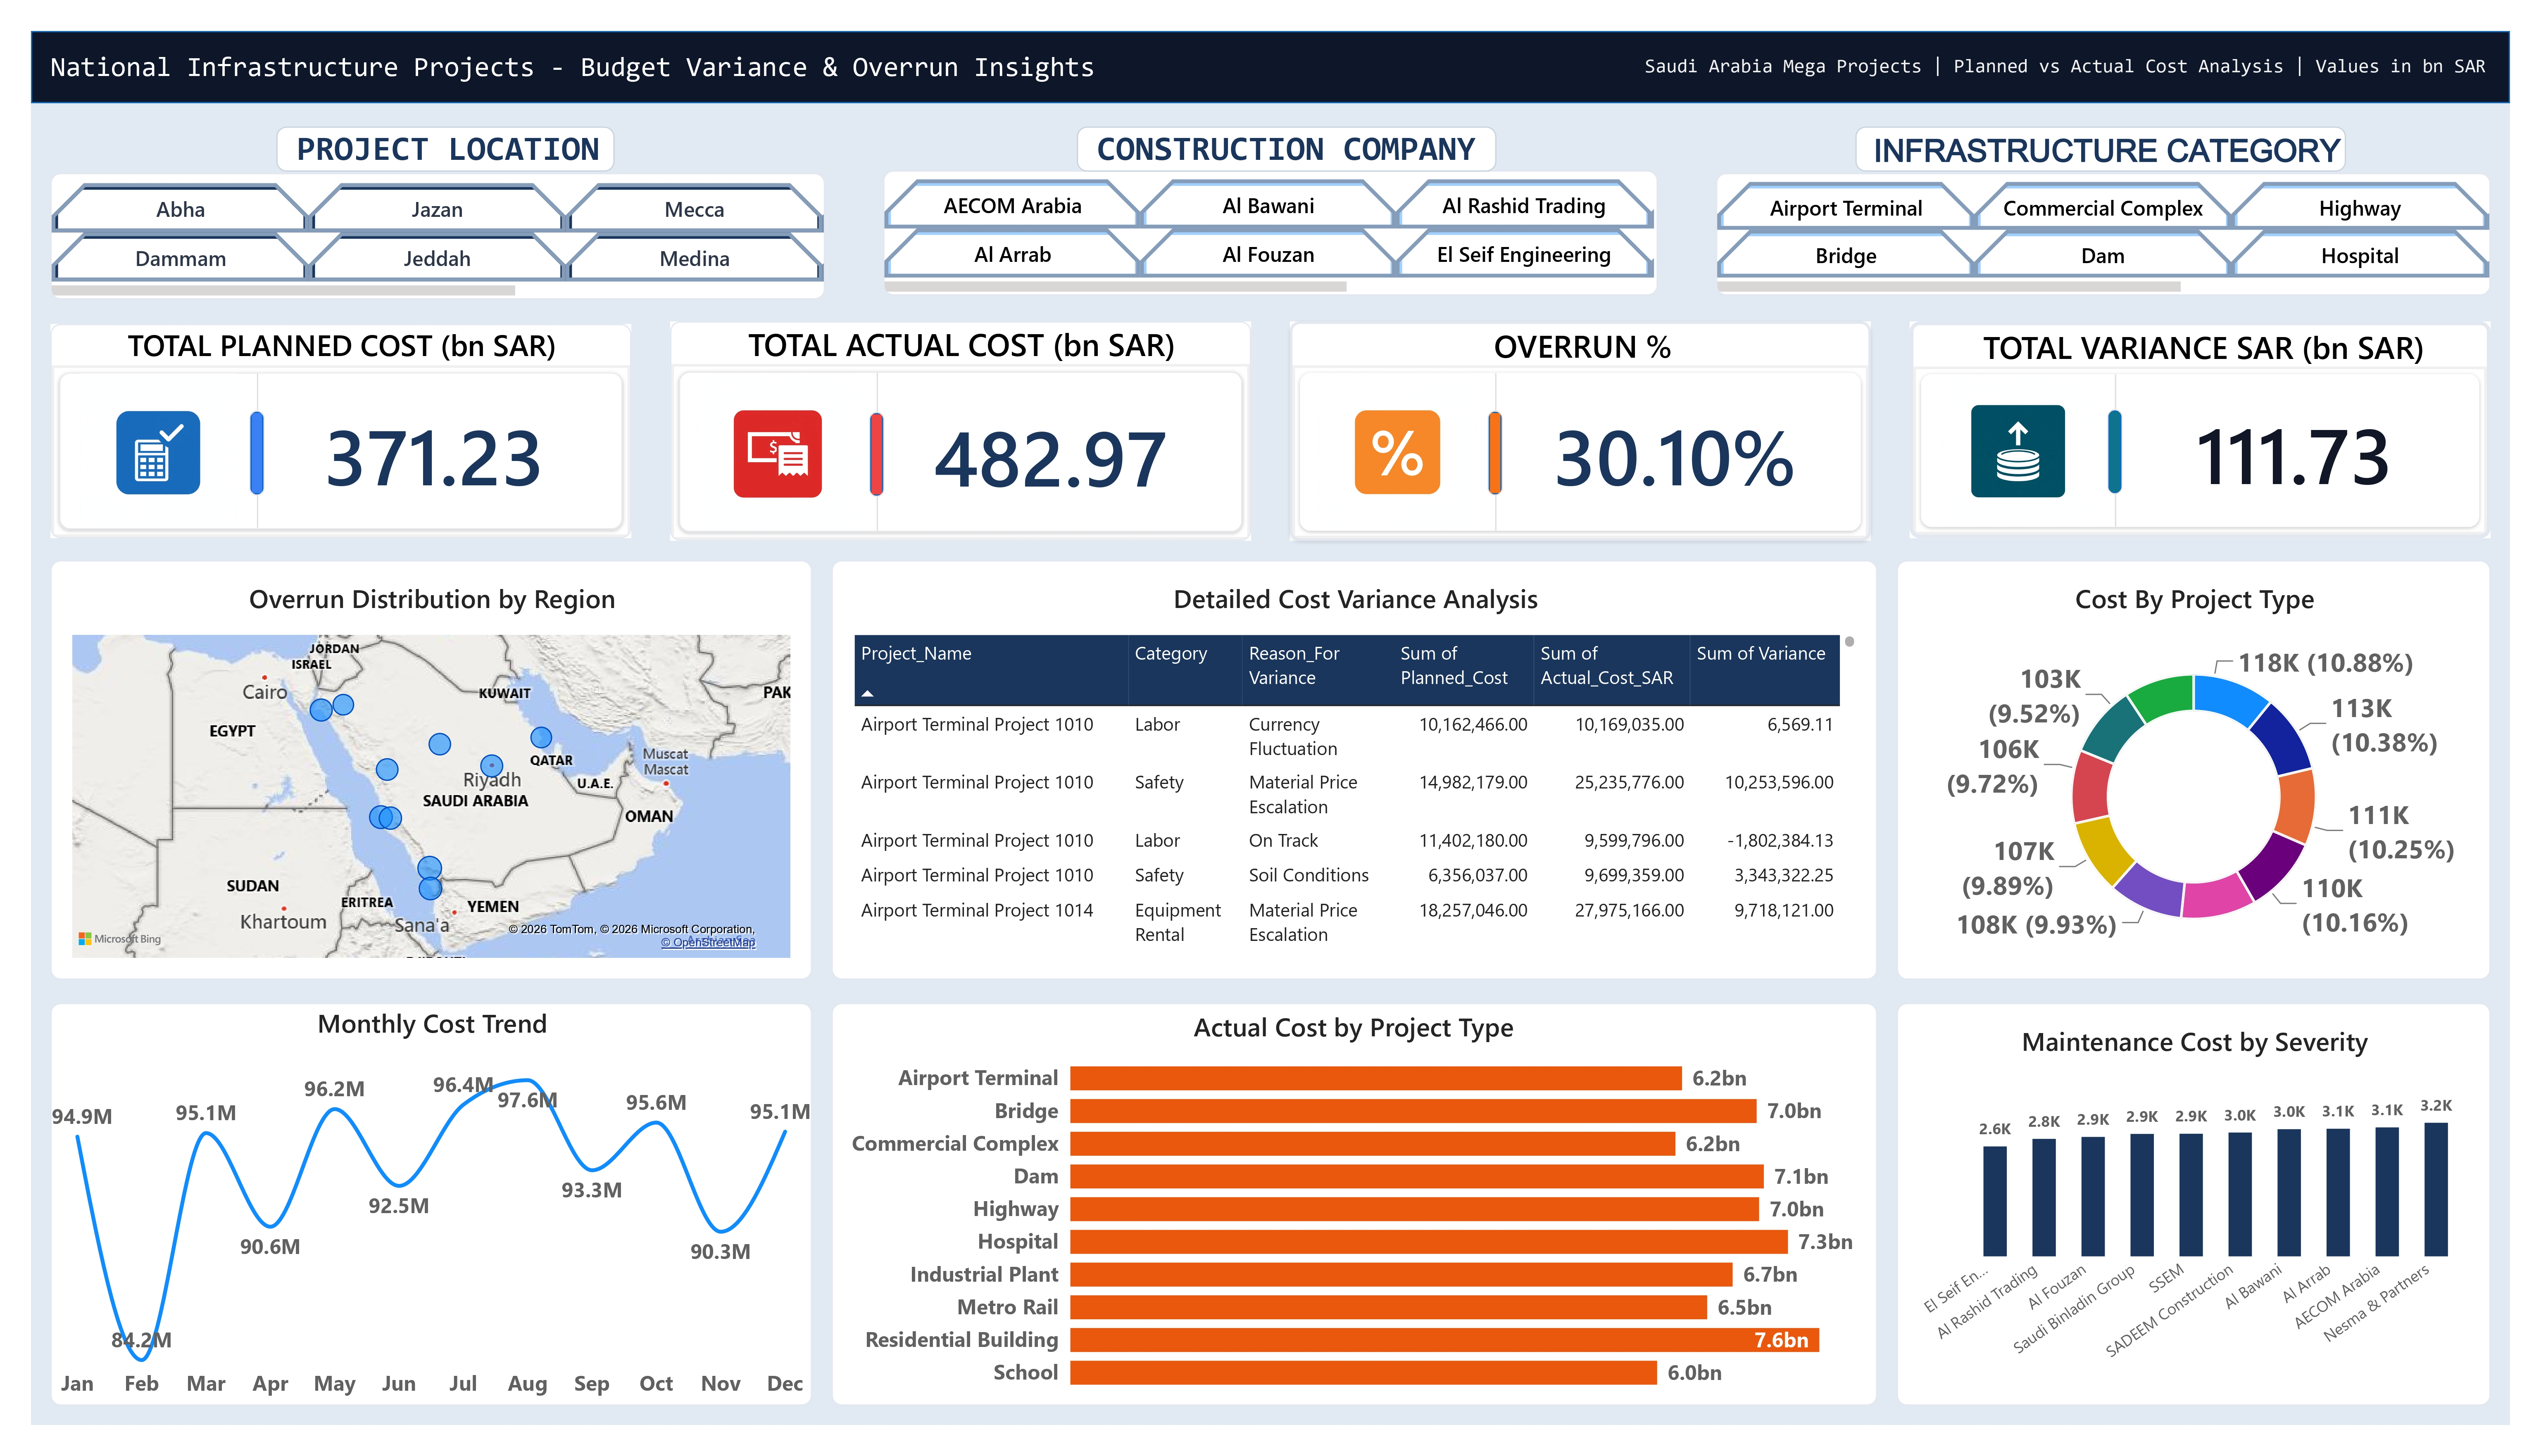

The page's visual inventory and layout, read from the dashboard file:
{"tool":"powerbi","page":{"name":"Page 1","canvas":[1920,1080],"ordinal":0},"visuals":[{"type":"shape","box":[0,0,1920.1,56.3],"z":0},{"type":"cardVisual","title":"TOTAL VARIANCE SAR (bn SAR)","fields":{"Data":["vw_Cost_Analysis.Total Variance"]},"box":[1455,225,450,168],"z":0,"group":"g4"},{"type":"cardVisual","title":"TOTAL PLANNED COST (bn SAR)","fields":{"Data":["vw_Cost_Analysis.Total Planned"]},"box":[15,227.3,450,166],"z":0,"group":"g5"},{"type":"textbox","box":[15,15,918,34],"z":1000},{"type":"textbox","box":[1250,17,660,25],"z":2000},{"type":"cardVisual","title":"TOTAL ACTUAL COST (bn SAR)","fields":{"Data":["vw_Cost_Analysis.Total Actual"]},"box":[495,224.9,450,170],"z":3000,"group":"g6"},{"type":"lineChart","title":"Monthly Cost Trend","fields":{"Category":["vw_Equipment_Risk.Month Short"],"Y":["Sum(vw_Equipment_Risk.Maintenance_Cost_SAR)"]},"box":[15,752.5,590,312.5],"z":3000},{"type":"shape","box":[169,294,12,66],"z":4000,"group":"g5"},{"type":"map","title":"Overrun Distribution by Region","fields":{"Category":["vw_Project_KPIs.Region"],"Size":["Sum(vw_Project_KPIs.Cost_Overrun_SAR)"]},"box":[15,410,590,325],"z":4000},{"type":"cardVisual","title":"OVERRUN %","fields":{"Data":["vw_Cost_Analysis.Overrun %"]},"box":[975,225.1,449.9,170],"z":5000,"group":"g3"},{"type":"tableEx","title":"Detailed Cost Variance Analysis","fields":{"Values":["vw_Project_KPIs.Project_Name","vw_Cost_Analysis.Cost_Category","vw_Cost_Analysis.Reason_For_Variance","Sum(vw_Cost_Analysis.Planned_Cost_SAR)","Sum(vw_Cost_Analysis.Actual_Cost_SAR)","Sum(vw_Cost_Analysis.Variance_SAR)"]},"box":[620,410,810,325],"z":5000},{"type":"shape","box":[1608,293,12,66],"z":6000,"group":"g4"},{"type":"donutChart","title":"Cost By Project Type","fields":{"Category":["vw_Equipment_Risk.Project_Type"],"Y":["Sum(vw_Equipment_Risk.Downtime_Hours)"]},"box":[1445,410,460,325],"z":6000},{"type":"clusteredBarChart","title":"Actual Cost by Project Type","fields":{"Category":["vw_Project_KPIs.Project_Type"],"Y":["Sum(vw_Project_KPIs.Cost_Overrun_SAR)"]},"box":[620,752.5,810,312.5],"z":7000},{"type":"advancedSlicerVisual","fields":{"Values":["vw_Project_KPIs.Project_Type"]},"box":[1305,110,600,95],"z":8000},{"type":"group","id":"g1","title":"Group 3","box":[15,227.3,450,166],"z":9000},{"type":"shape","box":[1128,294,12,66],"z":9000,"group":"g3"},{"type":"advancedSlicerVisual","fields":{"Values":["vw_Project_KPIs.Contractor"]},"box":[660,107.5,600,97.5],"z":10000},{"type":"shape","box":[649,295,12,66.3],"z":10000,"group":"g6"},{"type":"advancedSlicerVisual","fields":{"Values":["vw_Project_KPIs.Region"]},"box":[15,110,600,98],"z":11000},{"type":"clusteredColumnChart","title":"Maintenance Cost by Severity","fields":{"Y":["CountNonNull(vw_Equipment_Risk.Equipment)"],"Category":["vw_Equipment_Risk.Contractor"]},"box":[1445,752.5,460,312.5],"z":12000},{"type":"group","id":"g2","title":"Group 2","box":[495,224.9,450,170],"z":13000},{"type":"group","id":"g3","title":"Group 5","box":[975,225.1,449.9,170],"z":14000},{"type":"group","id":"g4","title":"Group 6","box":[1455,225,450,168],"z":15000},{"type":"textbox","box":[190,74,262,35],"z":16000},{"type":"textbox","box":[810,74,325,35],"z":17000},{"type":"textbox","box":[1413,74,380,35],"z":18000},{"type":"group","id":"g5","title":"Group 1","box":[15,227.3,450,166],"z":27001,"group":"g1"},{"type":"group","id":"g6","title":"Group 4","box":[495,224.9,450,170],"z":27002,"group":"g2"}]}

Visuals, with their boxes on the page's 1920x1080 design canvas (x1, y1, x2, y2). These are canvas units, not pixel positions in the 2541x1456 screenshot, which may show the page scaled, cropped or inside an application window:
shape: 0 0 1920 56
"TOTAL VARIANCE SAR (bn SAR)" cardVisual: 1455 225 1905 393
"TOTAL PLANNED COST (bn SAR)" cardVisual: 15 227 465 393
textbox: 15 15 933 49
textbox: 1250 17 1910 42
"TOTAL ACTUAL COST (bn SAR)" cardVisual: 495 225 945 395
"Monthly Cost Trend" lineChart: 15 752 605 1065
shape: 169 294 181 360
"Overrun Distribution by Region" map: 15 410 605 735
"OVERRUN %" cardVisual: 975 225 1425 395
"Detailed Cost Variance Analysis" tableEx: 620 410 1430 735
shape: 1608 293 1620 359
"Cost By Project Type" donutChart: 1445 410 1905 735
"Actual Cost by Project Type" clusteredBarChart: 620 752 1430 1065
advancedSlicerVisual - vw_Project_KPIs.Project_Type: 1305 110 1905 205
"Group 3" group: 15 227 465 393
shape: 1128 294 1140 360
advancedSlicerVisual - vw_Project_KPIs.Contractor: 660 108 1260 205
shape: 649 295 661 361
advancedSlicerVisual - vw_Project_KPIs.Region: 15 110 615 208
"Maintenance Cost by Severity" clusteredColumnChart: 1445 752 1905 1065
"Group 2" group: 495 225 945 395
"Group 5" group: 975 225 1425 395
"Group 6" group: 1455 225 1905 393
textbox: 190 74 452 109
textbox: 810 74 1135 109
textbox: 1413 74 1793 109
"Group 1" group: 15 227 465 393
"Group 4" group: 495 225 945 395
